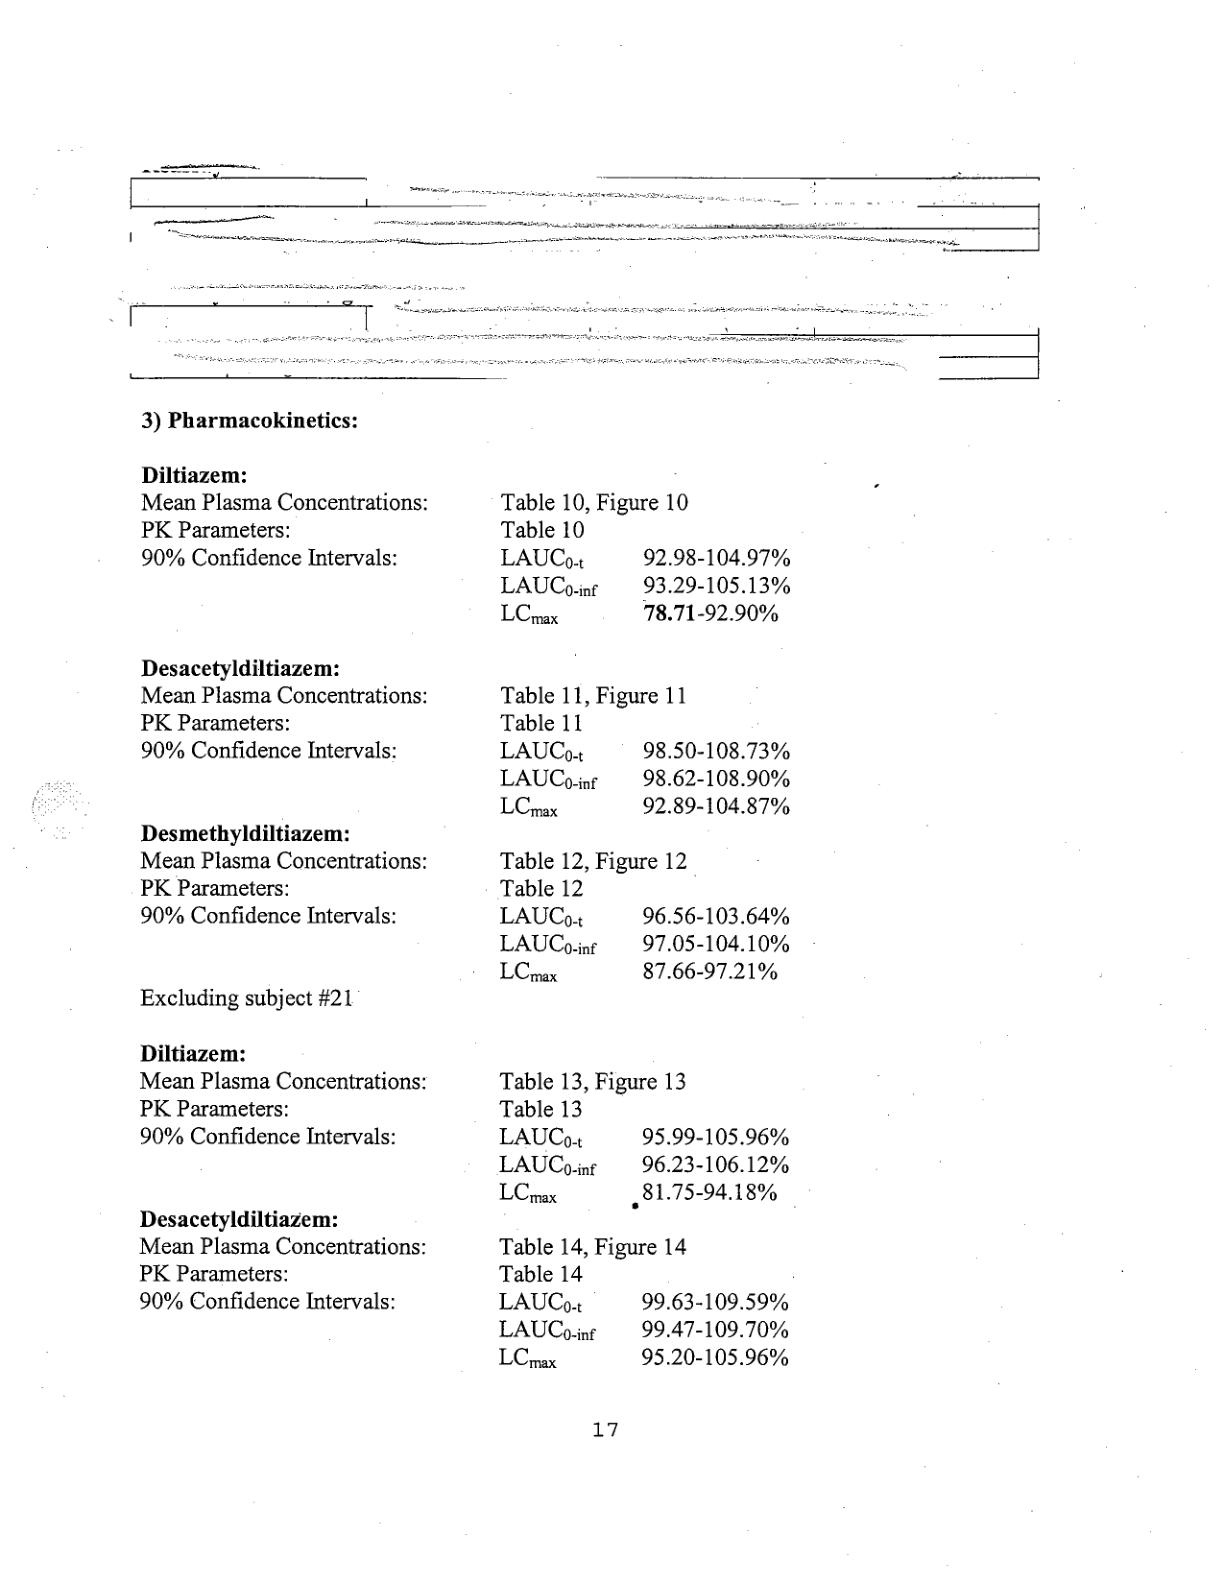nolines: (138, 463, 804, 1380)
